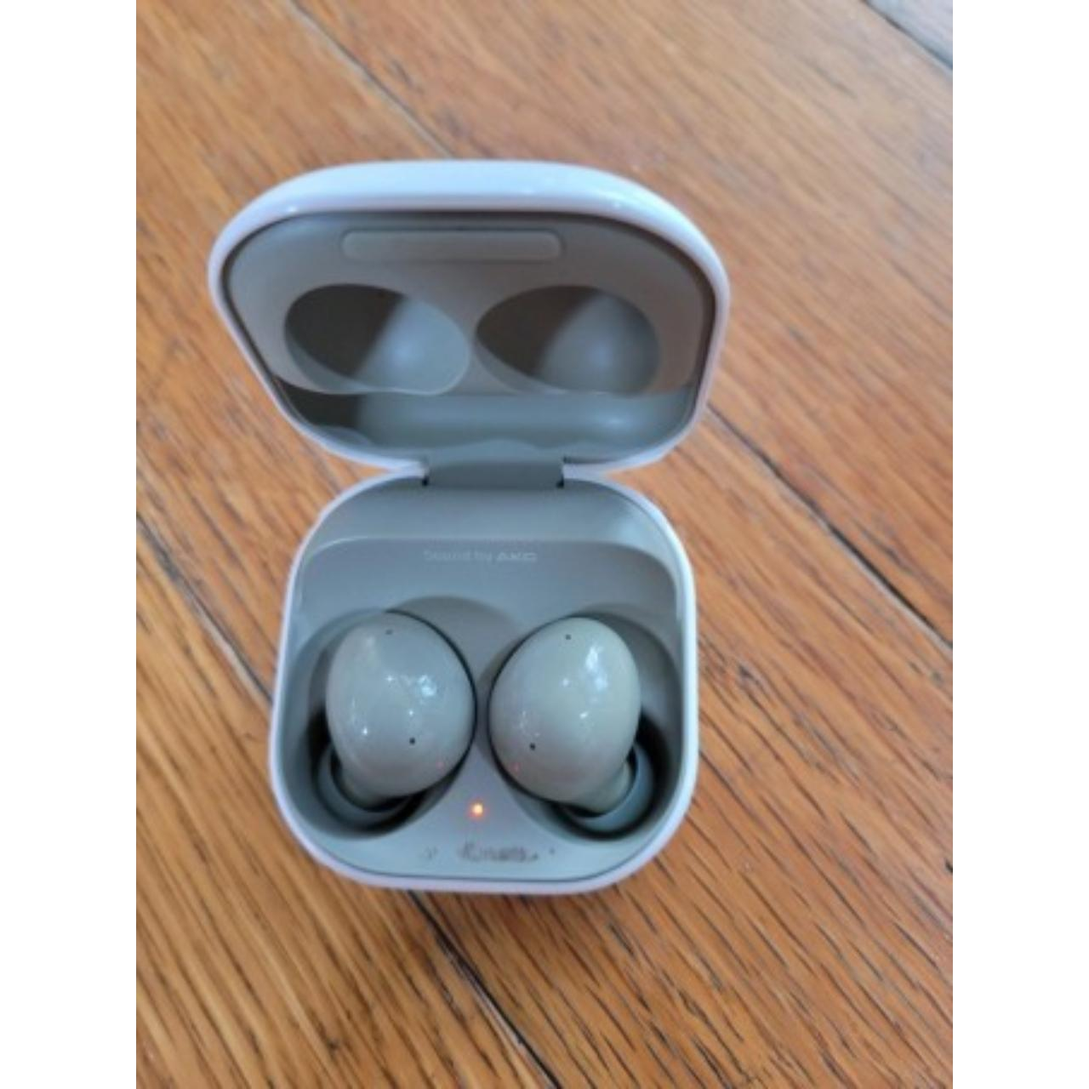Buds: (199, 159, 736, 901)
Buds_Units: (485, 613, 661, 835), (309, 611, 479, 835)
